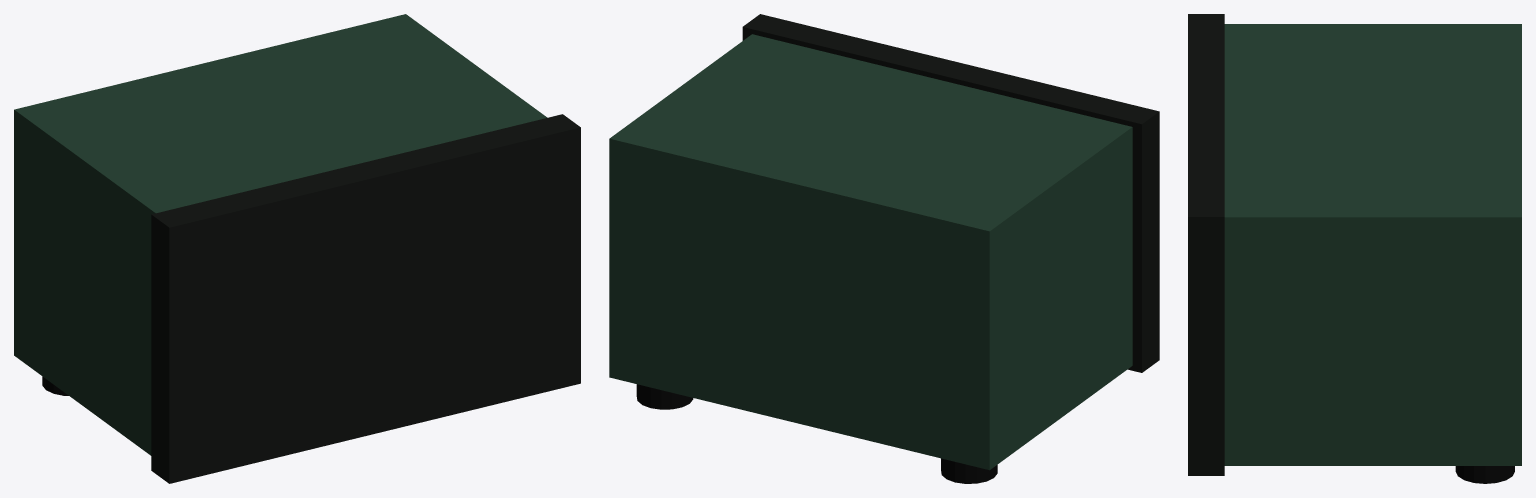
The model's file is dumpster_large.obj.
3 renders of one model, left to right at view 1: azimuth 30°, elevation 25°; view 2: azimuth 150°, elevation 25°; view 3: azimuth 270°, elevation 25°, orthographic. The views are drawn at different scales.
Visible parts, largest first — view 1: dumpster_large; view 2: dumpster_large; view 3: dumpster_large.
Part boxes in pixels (x1,y1,x2,y2): dumpster_large: [14, 14, 580, 483]; dumpster_large: [609, 14, 1159, 483]; dumpster_large: [1188, 14, 1521, 483].
Size of the model in its own units: 2.1 by 1.35 by 1.46.
